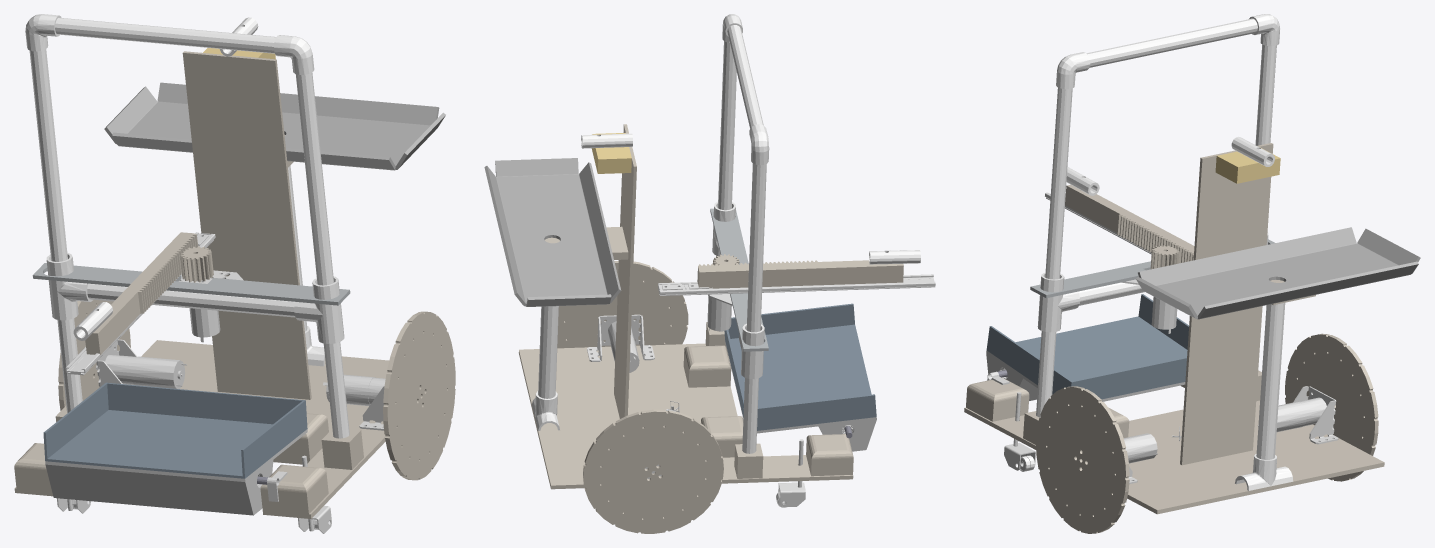
File: robot.glb
3 views of the same model, side by side, from view 1: azimuth 30°, elevation 25°; view 2: azimuth 150°, elevation 25°; view 3: azimuth 270°, elevation 25° (orthographic). The views are drawn at different scales.
Bounding box in the file's own units: 662 × 695 × 651.
